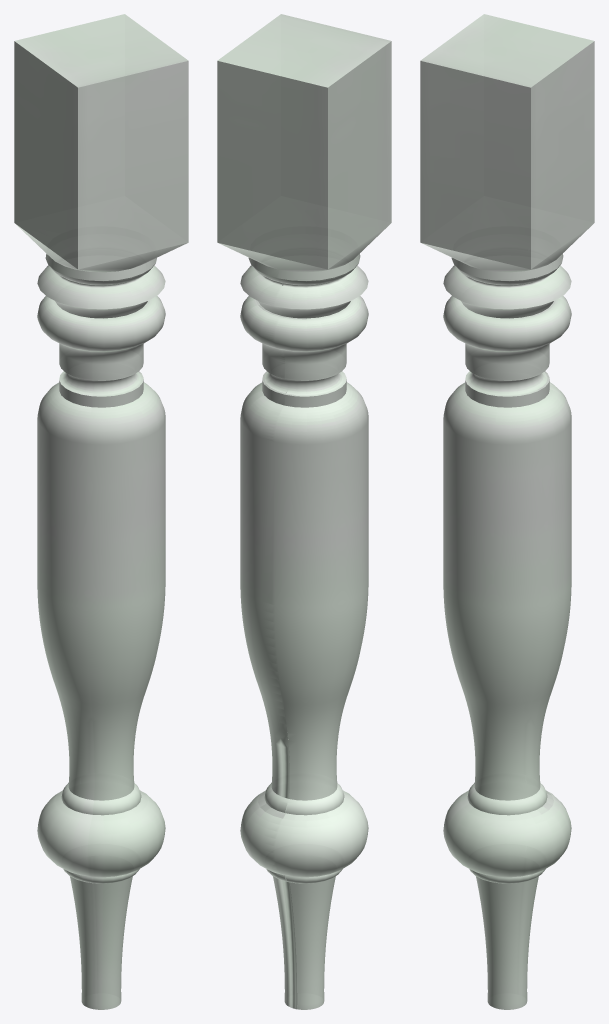
The model's file is original-33.obj.
The picture shows the model from 3 angles, left to right: view 1: azimuth 30°, elevation 25°; view 2: azimuth 150°, elevation 25°; view 3: azimuth 330°, elevation 25°; orthographic projection.
Parts seen in each view (by area): view 1: mesh41/mesh41-geometry#mesh41-geometry; view 2: mesh41/mesh41-geometry#mesh41-geometry; view 3: mesh41/mesh41-geometry#mesh41-geometry.
Part boxes in pixels (box(x1,y1,x2,y2)): mesh41/mesh41-geometry#mesh41-geometry: box(14, 14, 188, 1009); mesh41/mesh41-geometry#mesh41-geometry: box(217, 14, 391, 1009); mesh41/mesh41-geometry#mesh41-geometry: box(420, 14, 594, 1009).
Size of the model in its own units: 0.0702 by 0.5745 by 0.0702.
